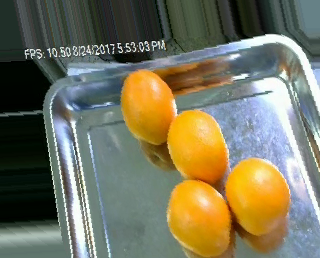Orange: (226, 156, 291, 236), (165, 180, 232, 254), (168, 109, 230, 186), (119, 69, 176, 146)
